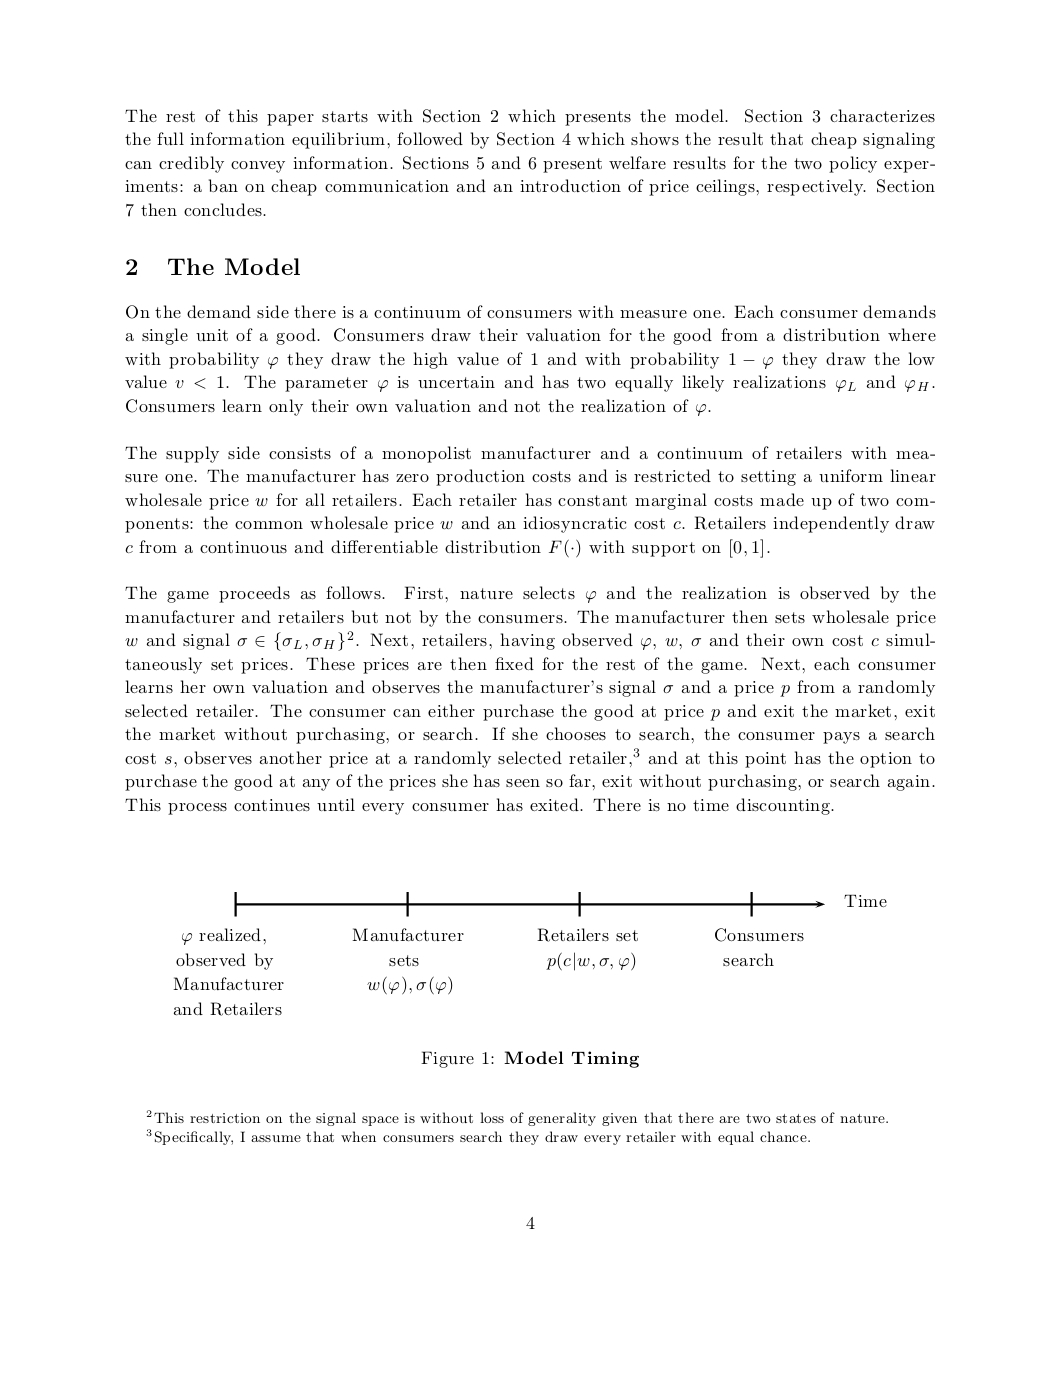figure: (173, 892, 886, 1015)
